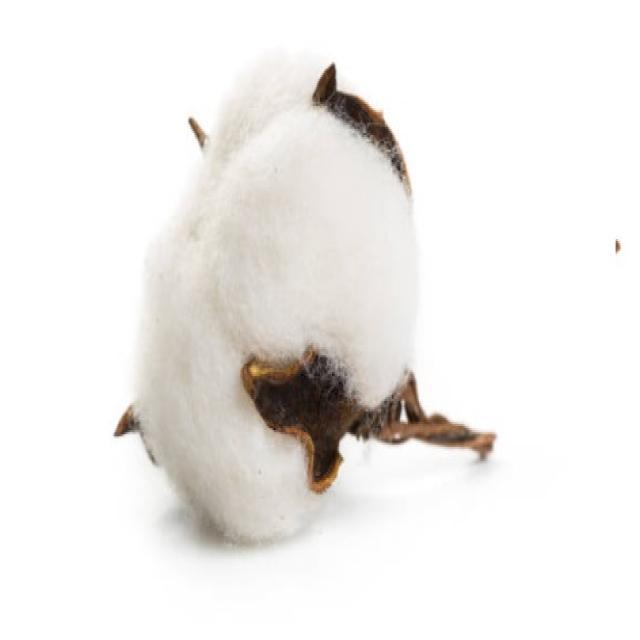Matured Cotton Boll: (99, 50, 493, 554)
